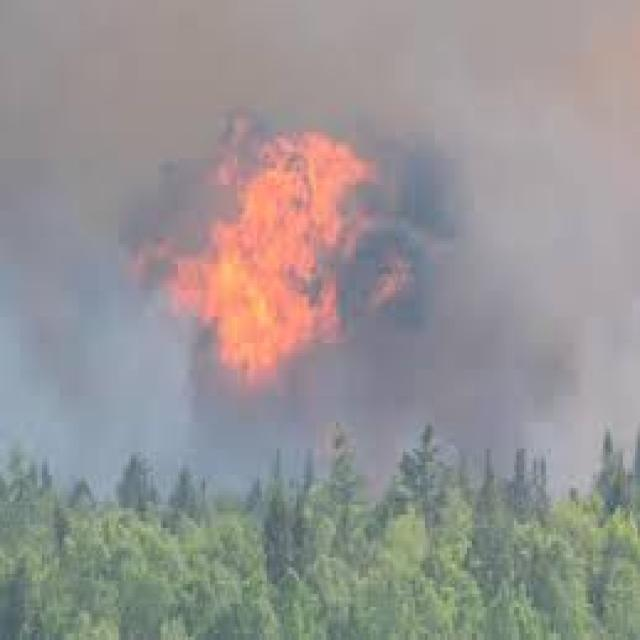Fire: (150, 120, 417, 402)
Smoke: (424, 19, 640, 433), (0, 0, 133, 435), (67, 9, 500, 112), (372, 124, 474, 356)
